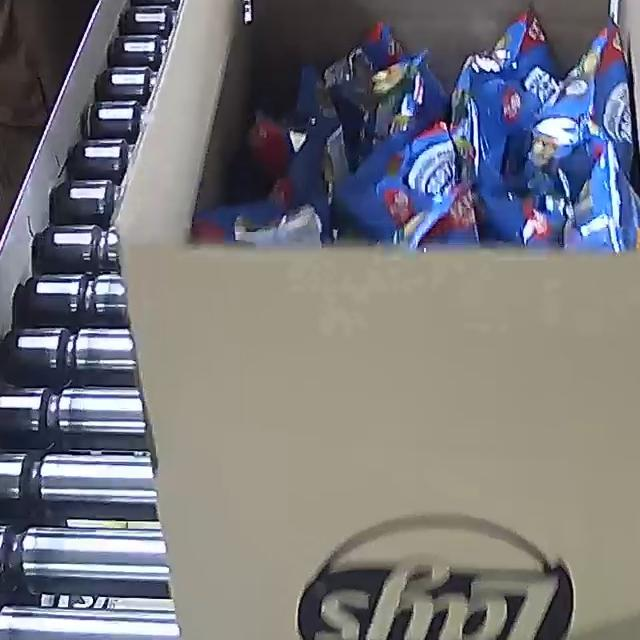paprika: (261, 29, 620, 264)
